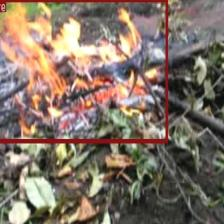fire: (0, 0, 167, 142)
